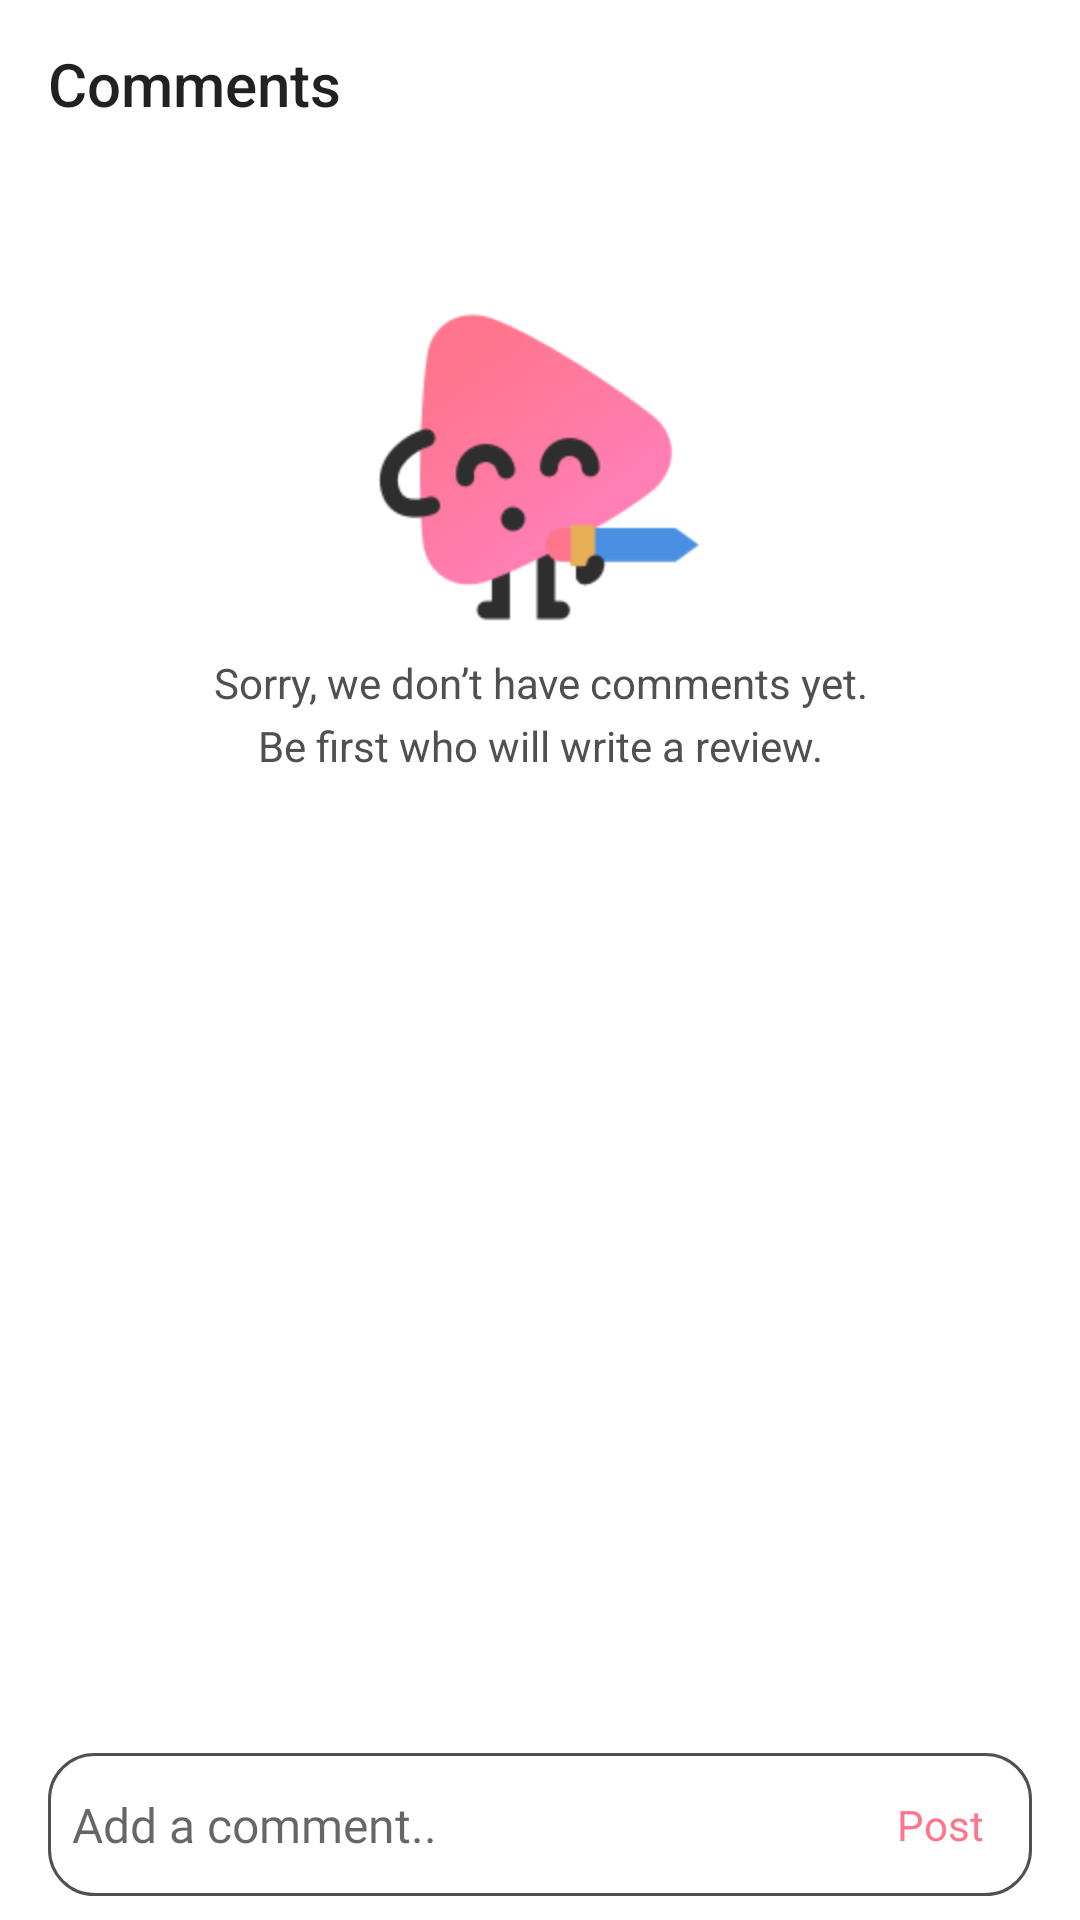

Icon bounding boxes for this 1080w x 1920h phone screenshot, format (x1, y1, x2, y2):
placehoder comments: (379, 314, 699, 621)
